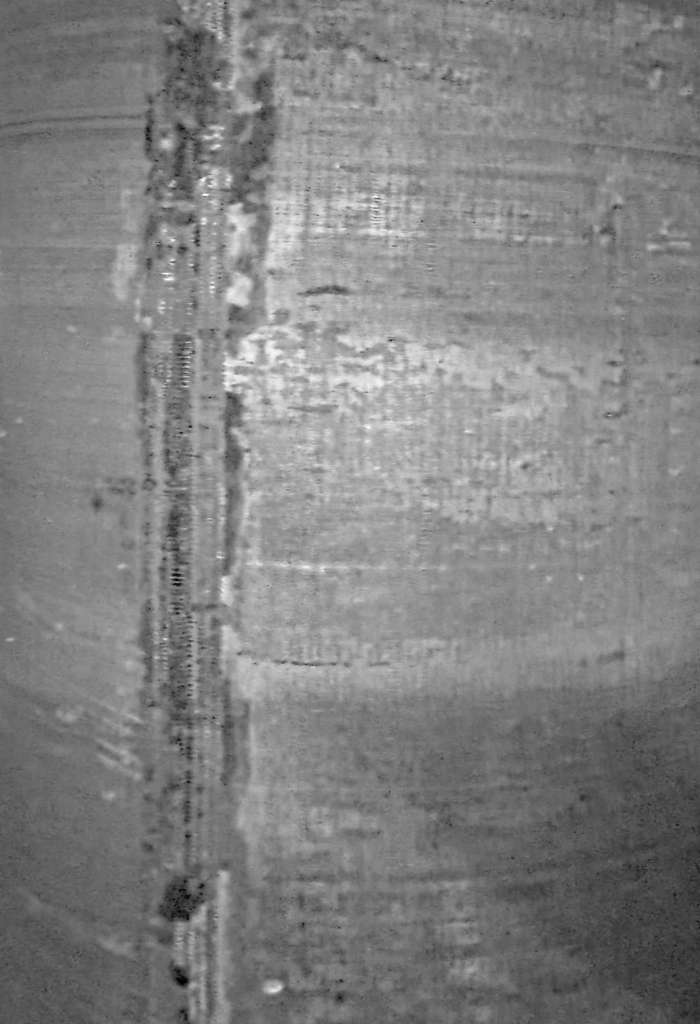splice: (131, 1, 254, 1024)
